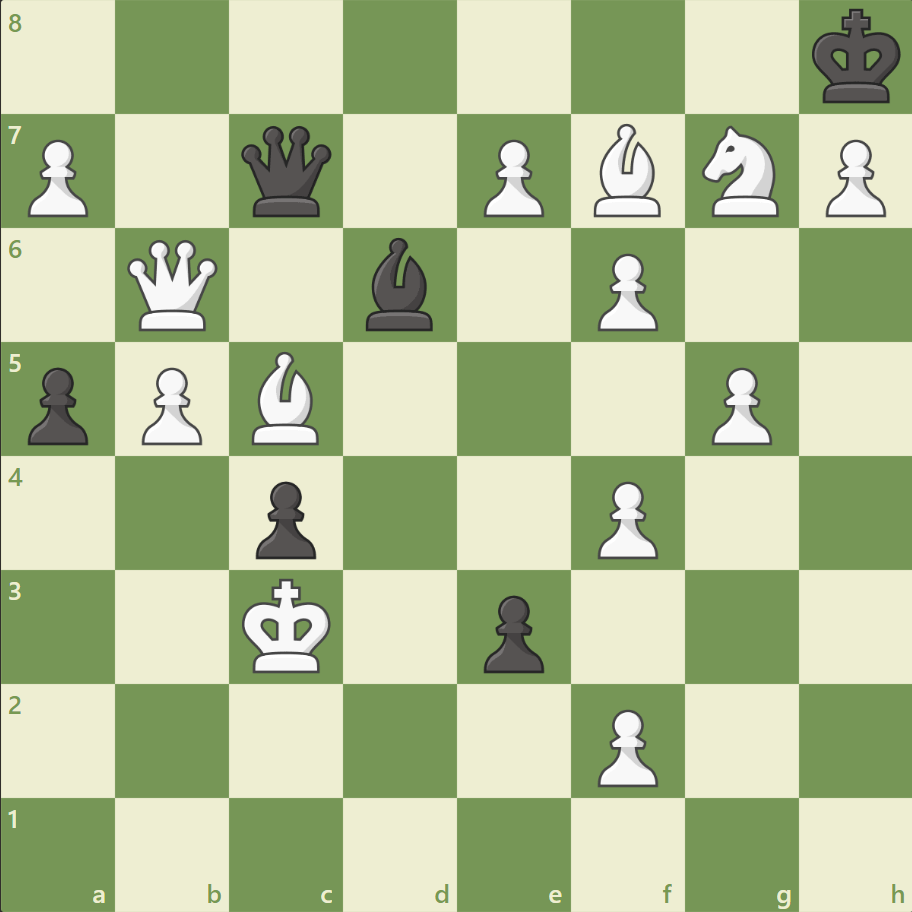B: (585, 120, 669, 222), (244, 347, 328, 449)
K: (238, 571, 338, 679)
N: (692, 121, 789, 223)
P: (20, 132, 95, 223), (474, 132, 549, 223), (133, 359, 208, 450), (701, 359, 776, 450), (815, 132, 889, 223), (588, 246, 662, 337), (588, 473, 662, 564), (588, 700, 662, 791)
Q: (124, 236, 223, 335)
b: (358, 233, 442, 336)
k: (806, 4, 906, 112)
p: (20, 359, 95, 450), (247, 473, 322, 564), (474, 586, 549, 677)
q: (237, 122, 336, 222)
